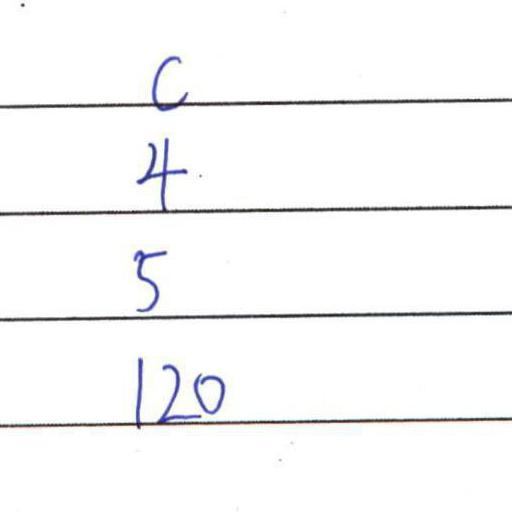ans: (123, 348, 226, 428), (130, 130, 187, 210), (123, 238, 167, 313), (143, 48, 191, 113)
